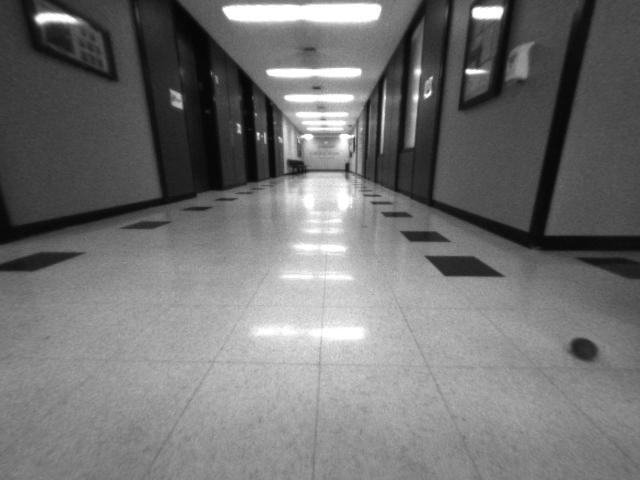dogtoy: (567, 329, 605, 369)
